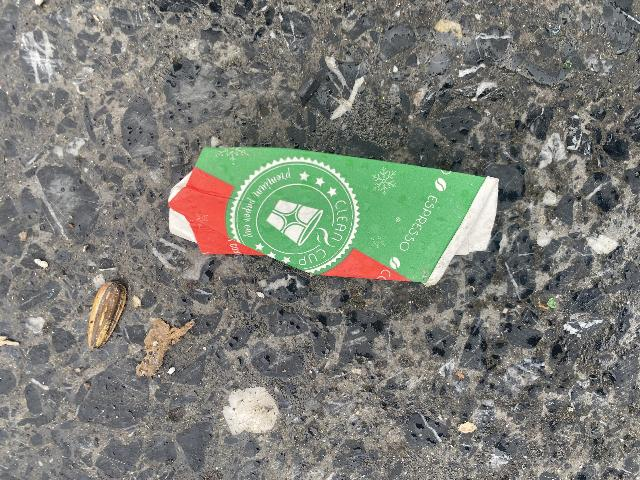Kagit: (165, 146, 503, 289)
Organik: (87, 278, 124, 352)
